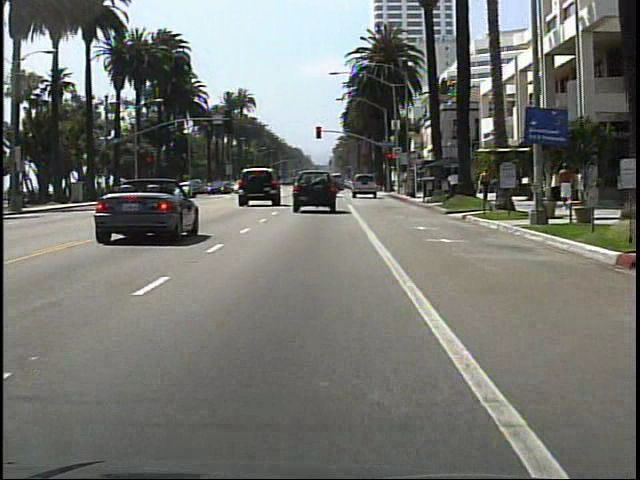person: (555, 160, 575, 211), (445, 168, 464, 201), (479, 166, 493, 207)
